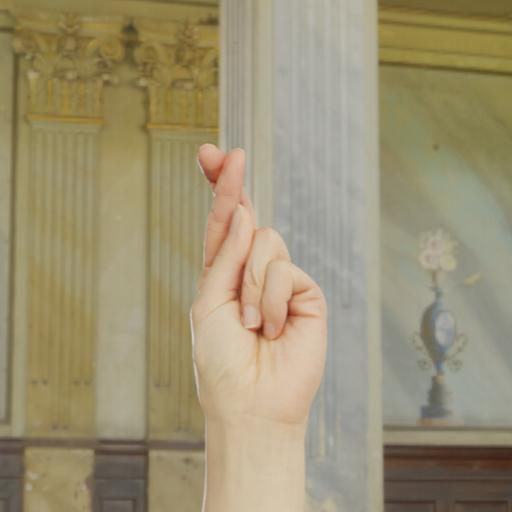R: (159, 122, 352, 452)
